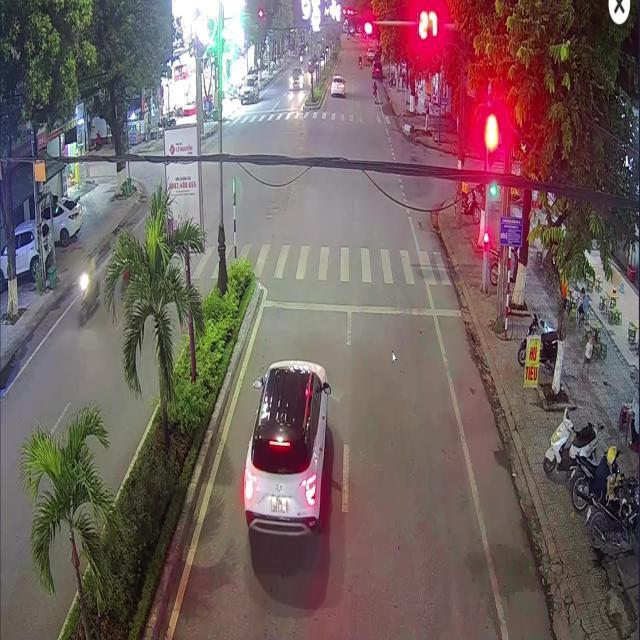car: (242, 359, 330, 537), (330, 74, 345, 95), (371, 61, 382, 78)
red_light: (347, 17, 372, 34), (486, 127, 494, 164), (483, 231, 487, 251)
stop_line: (263, 299, 462, 316)
